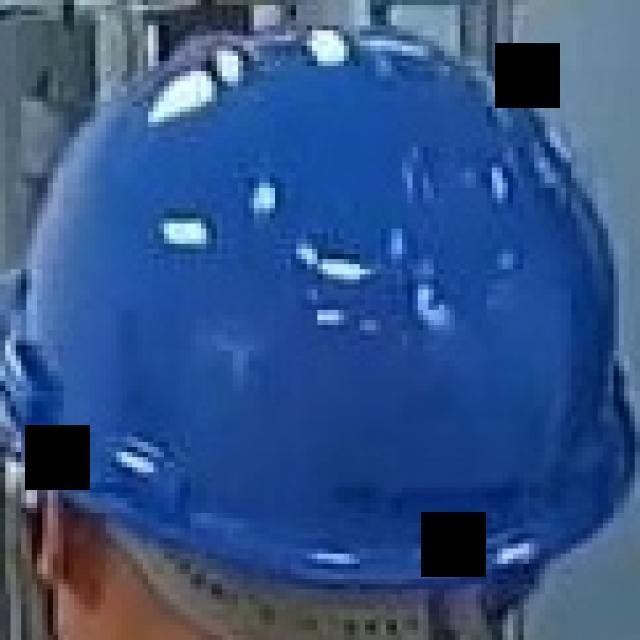blue helmet: (1, 1, 640, 621)
